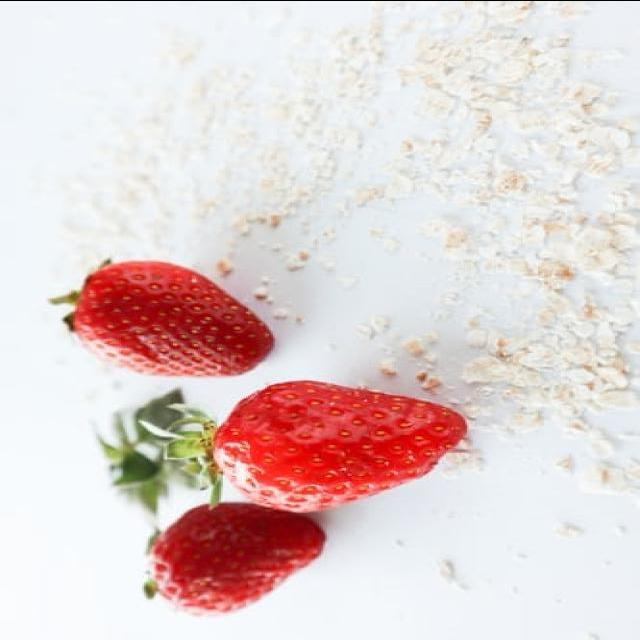strawberry: (210, 379, 467, 512), (72, 261, 272, 374), (149, 500, 322, 617)
